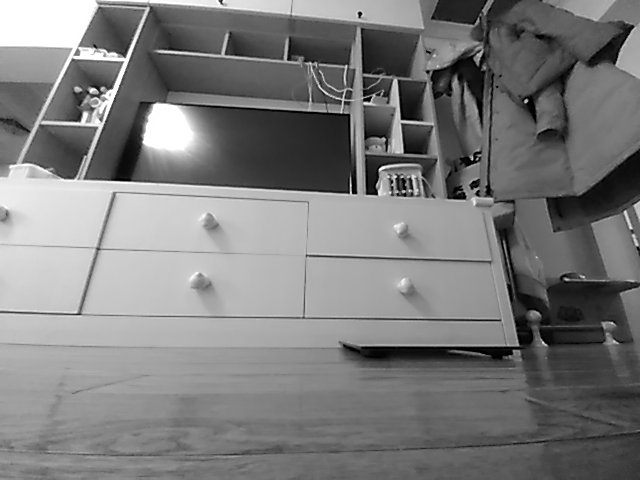scale: (340, 338, 525, 363)
